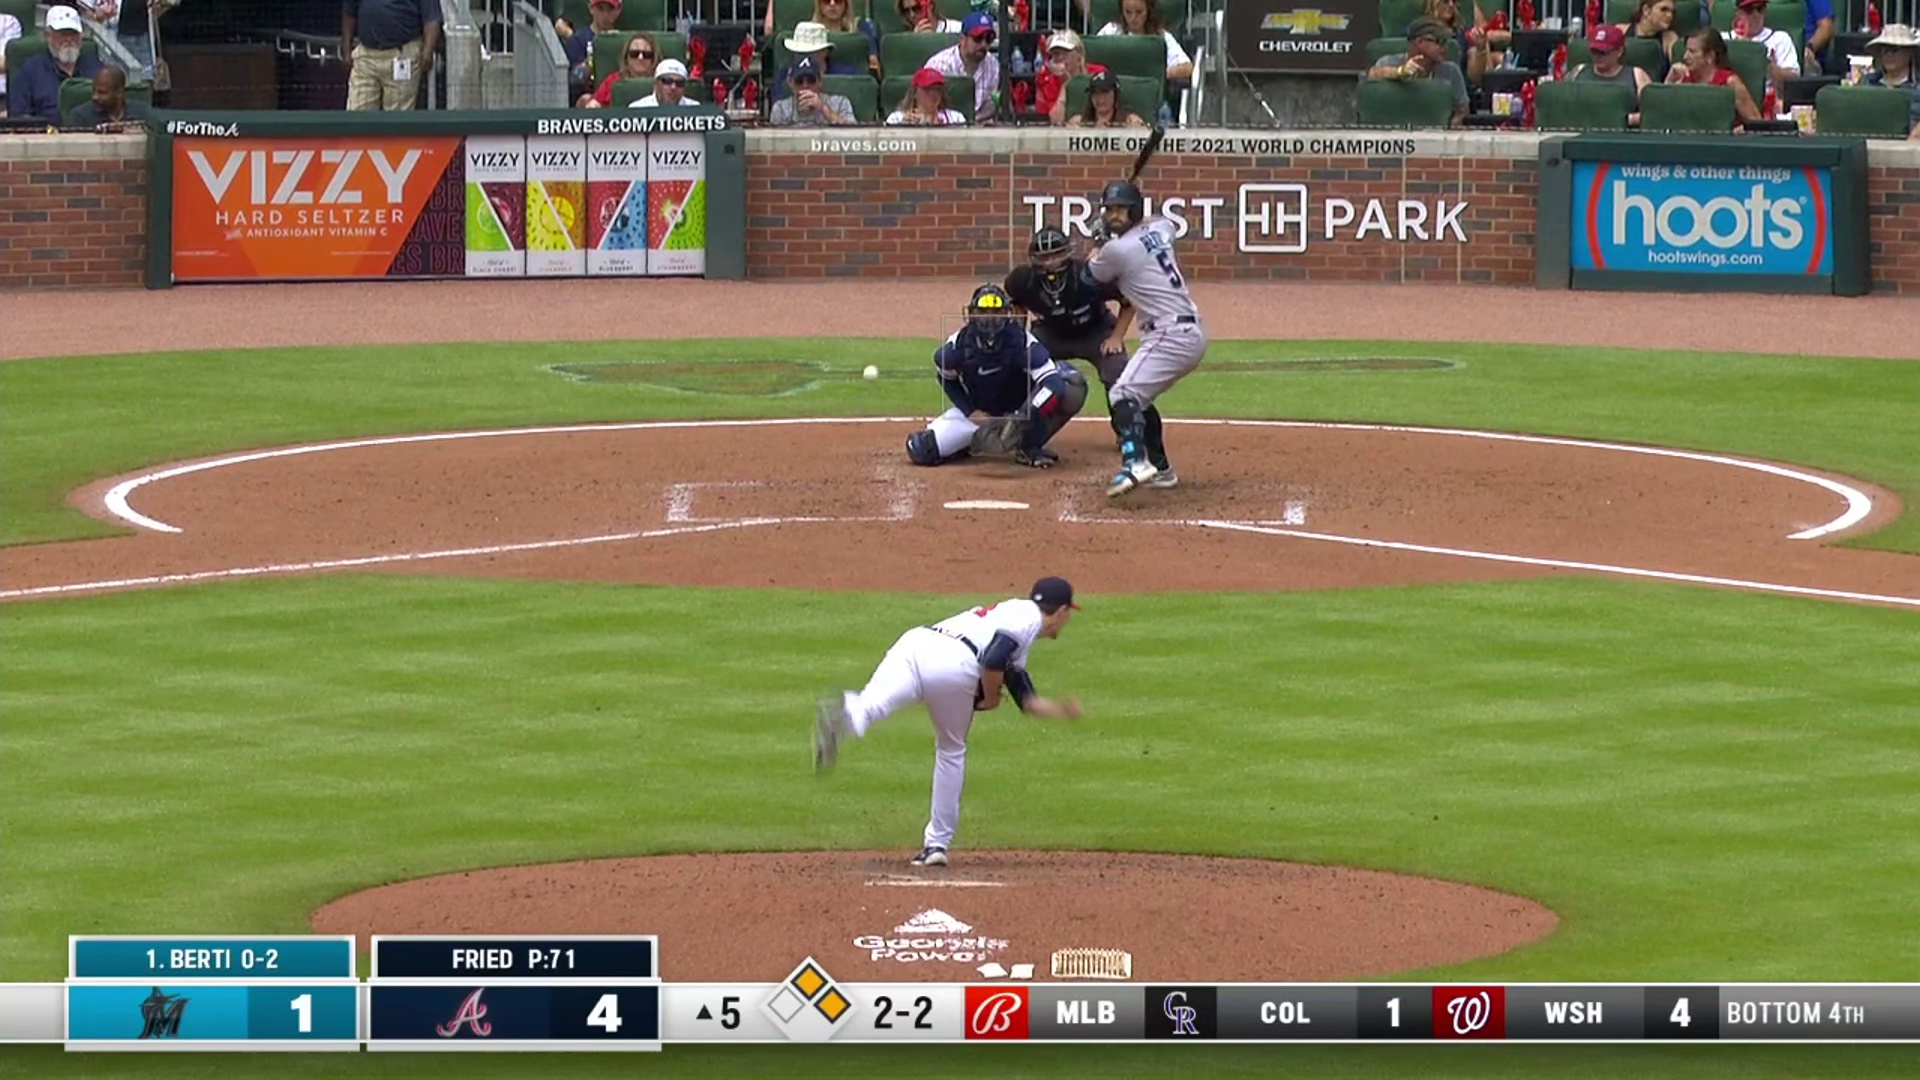baseball: (862, 364, 878, 381)
